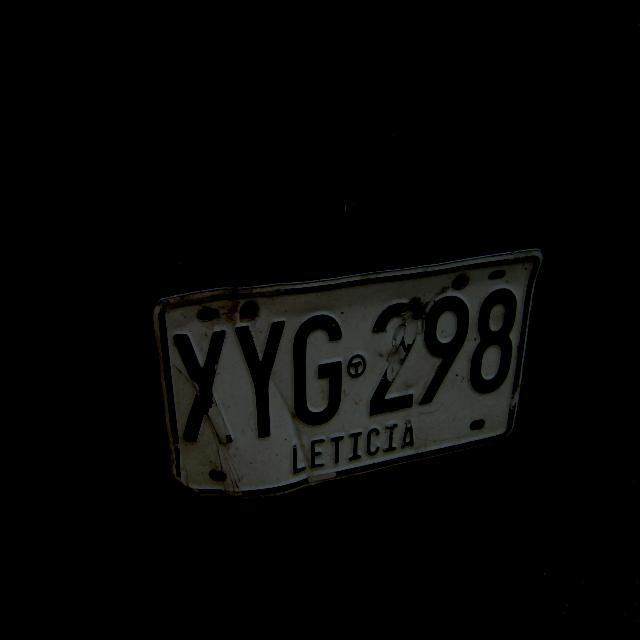placa: (149, 242, 545, 502)
